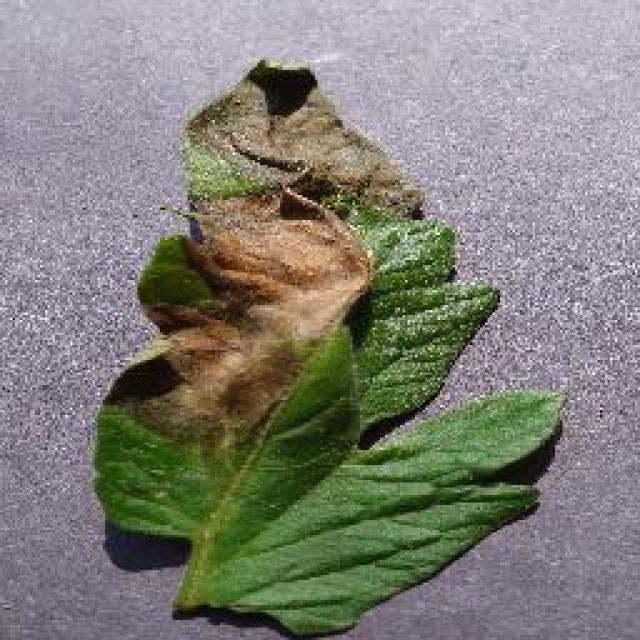Tomato Late Blight: (135, 96, 398, 356)
